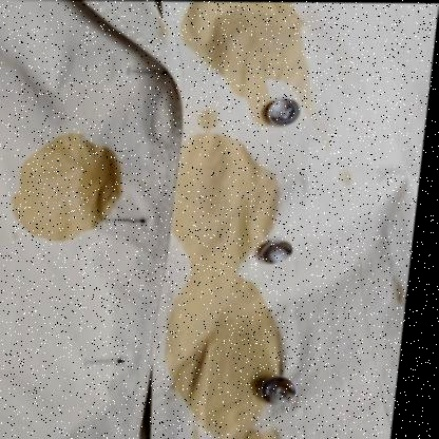coffee: (172, 142, 253, 264), (188, 3, 308, 80), (178, 282, 274, 374), (16, 146, 115, 234)
